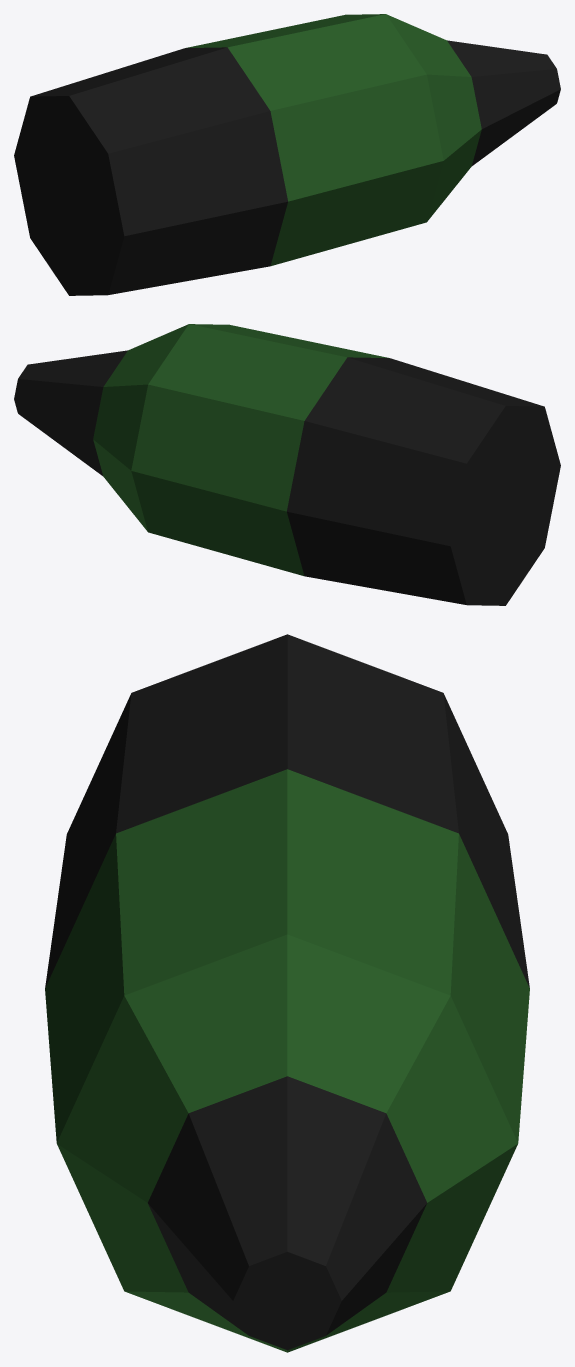
Rendered from button_tank_bullet.fbx.
The picture shows the model from 3 angles, top to bottom: view 1: azimuth 30°, elevation 25°; view 2: azimuth 150°, elevation 25°; view 3: azimuth 270°, elevation 25°; orthographic projection. The views are drawn at different scales.
Visible parts, largest first — view 1: Cylinder; view 2: Cylinder; view 3: Cylinder.
Part boxes in pixels (x1=…): Cylinder: x1=14, y1=14, x2=560, y2=295; Cylinder: x1=14, y1=324, x2=560, y2=605; Cylinder: x1=45, y1=634, x2=529, y2=1352.
Size of the model in its own units: 26.74 by 60.89 by 26.74.
